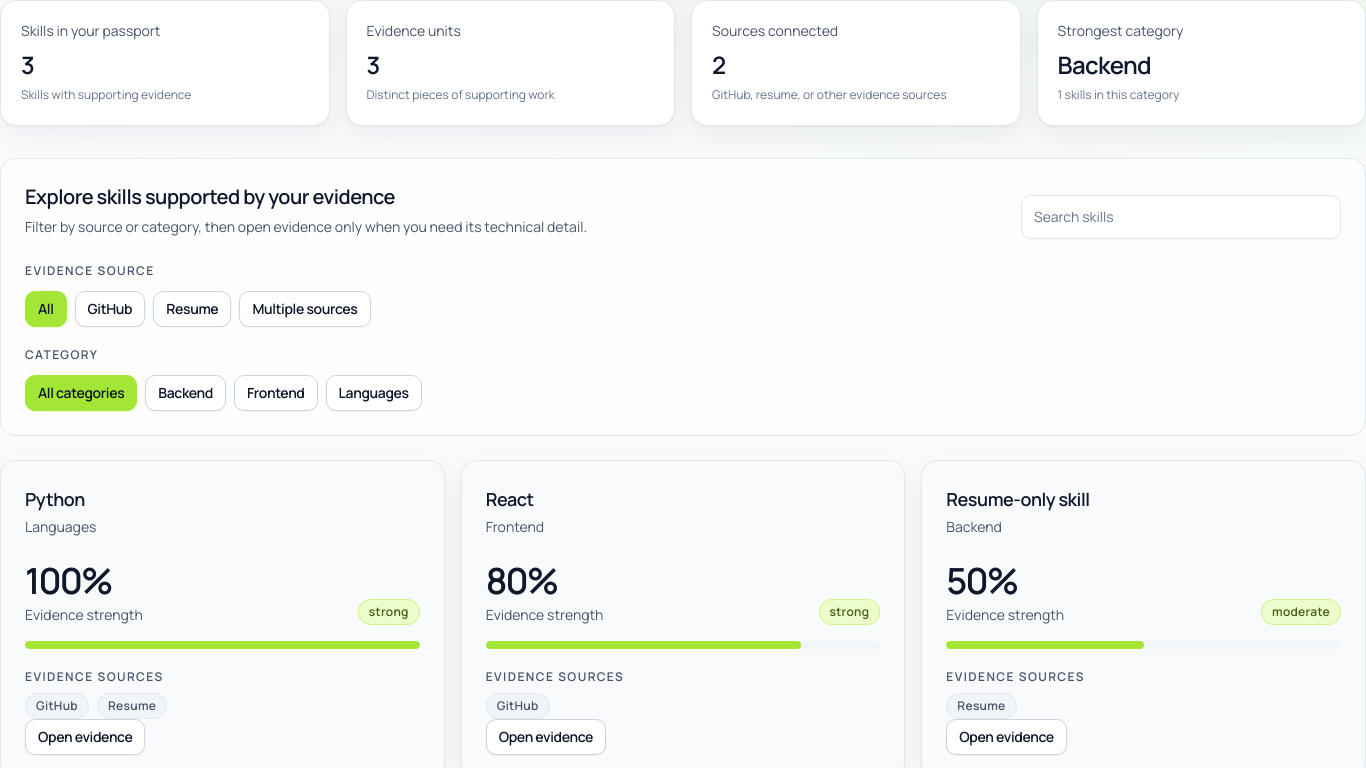
Test: SkillPassportWorkspace › shows independent repository evidence only after opening the evidence dialog
Check: the text "61% evidence in this repository" is not shown
What coordinates should you click on to do the following:
click the button "Open evidence" below "Python"
I would click on:
 (85, 737)
Its box is [25,719,146,755].
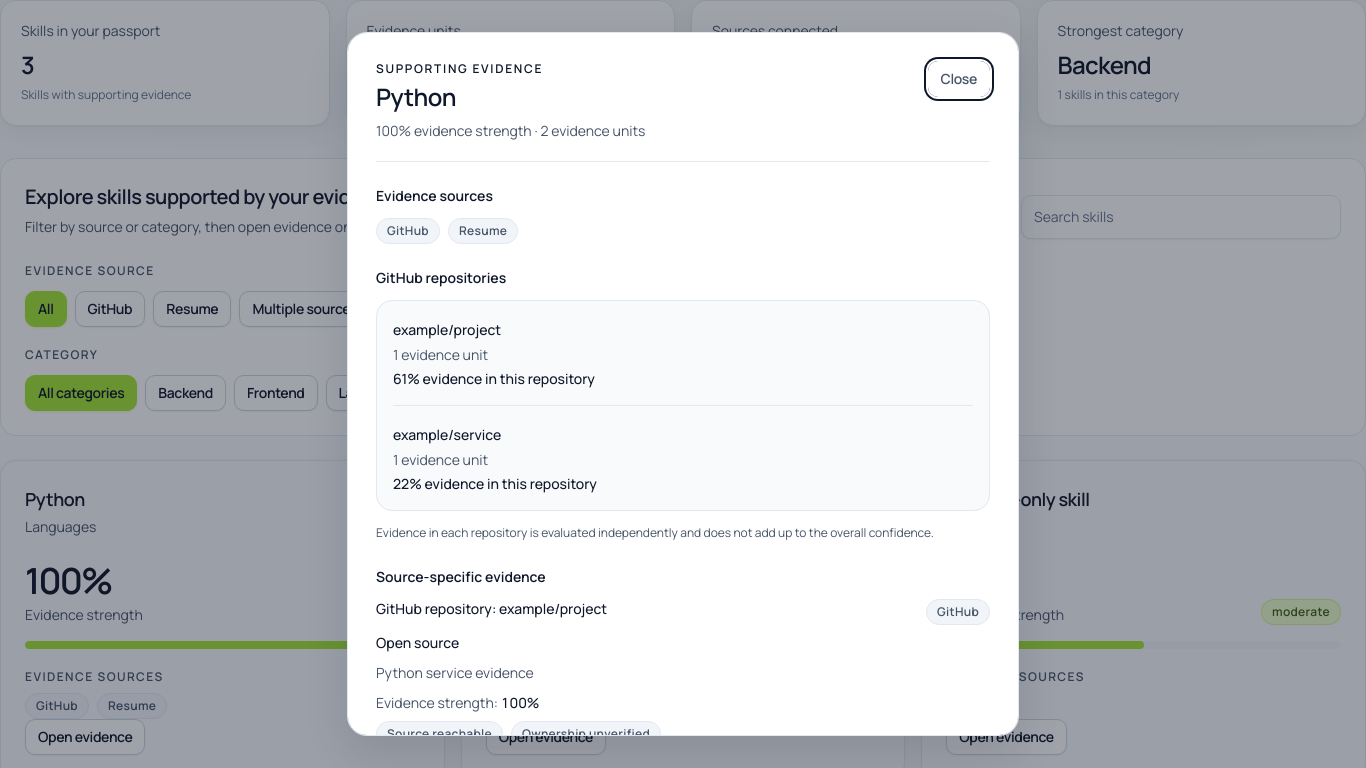
Check: the link "example/project" is shown, box [393,320,501,339]
Check: the text "61% evidence in this repository" is shown, box [393,369,595,388]
Check: the text "22% evidence in this repository" is shown, box [393,474,597,493]
